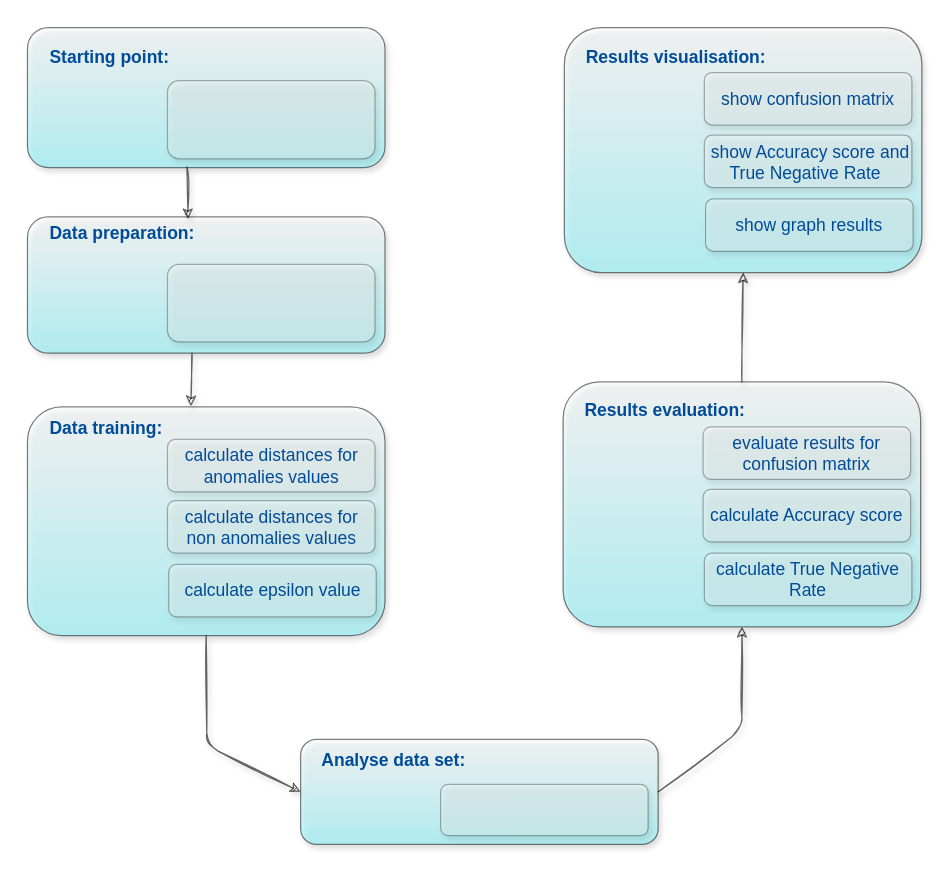
The diagram is 951 pixels wide and 875 high, and some of its shapes have lost their labels. The centre of each missing label's shape, as x and y in pixels:
"call dbscan function" belongs at point 545,811.
"call main function with data that needs to be analyzed" belongs at point 271,121.
"split input data for training data into anomalies and not anomalies values" belongs at point 271,304.
